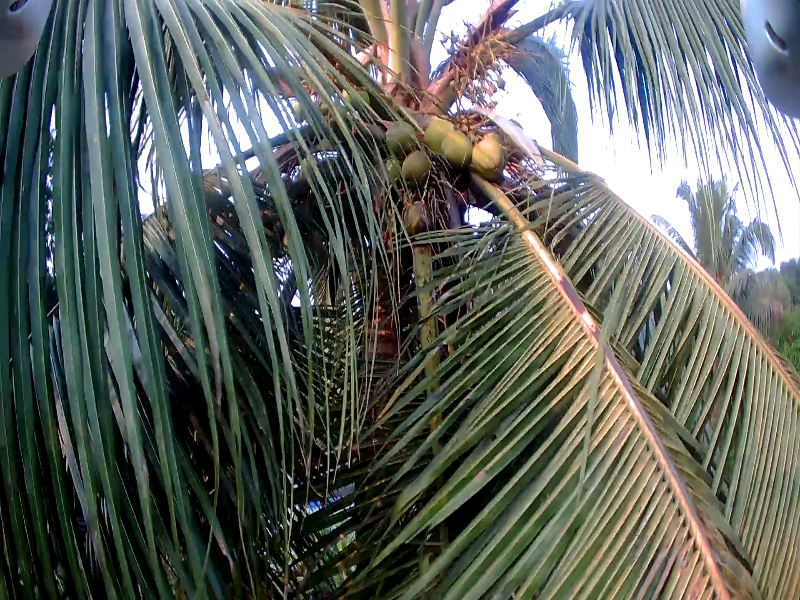coconut: (467, 134, 503, 179), (422, 119, 457, 147), (402, 153, 435, 182), (388, 124, 417, 153), (337, 80, 368, 105), (286, 97, 312, 125), (445, 135, 468, 160)
